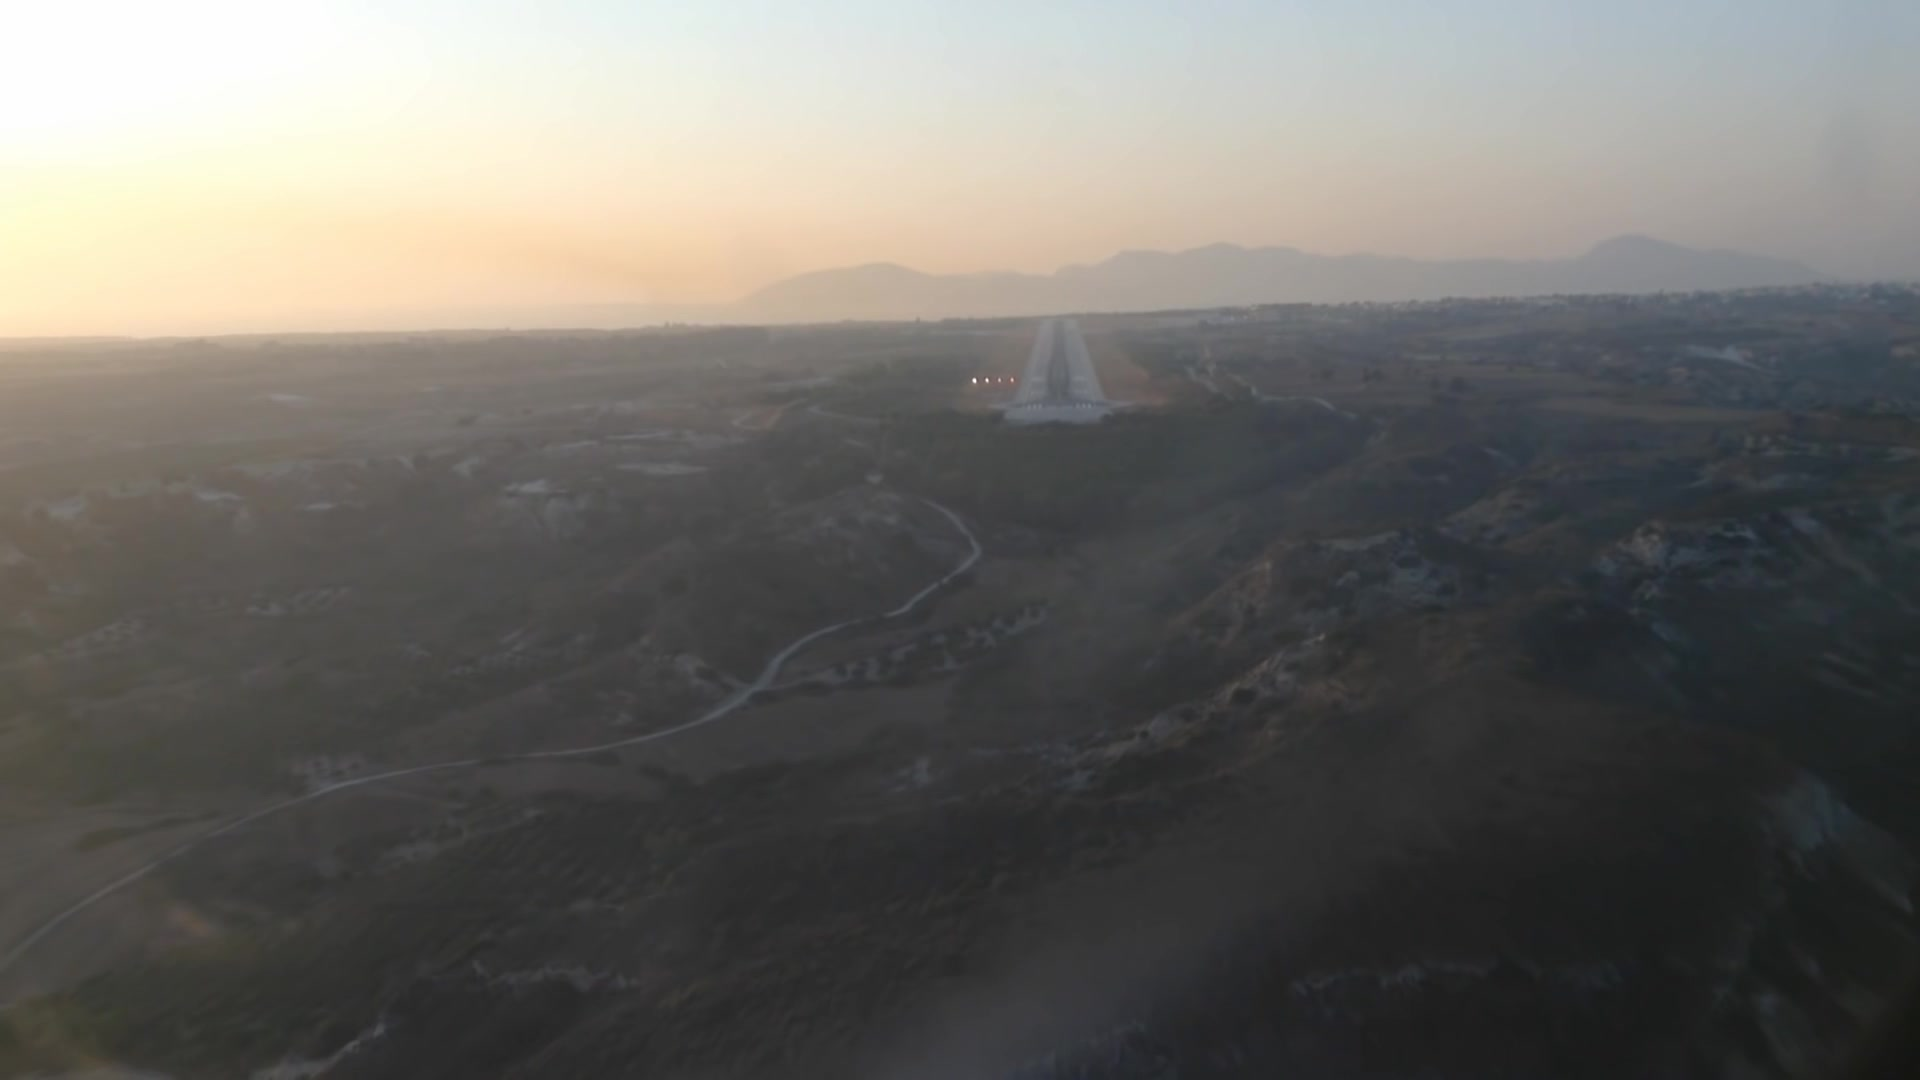entrance: (1021, 402, 1097, 410)
runway: (1014, 323, 1106, 421)
